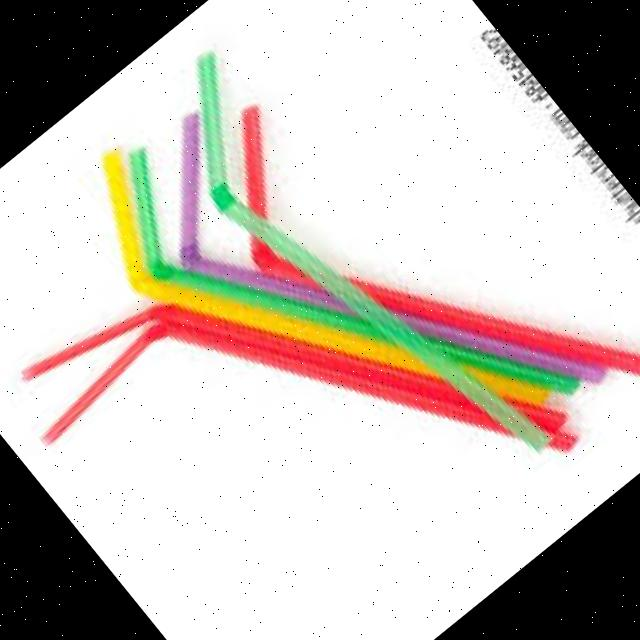plastic: (104, 4, 576, 540)
